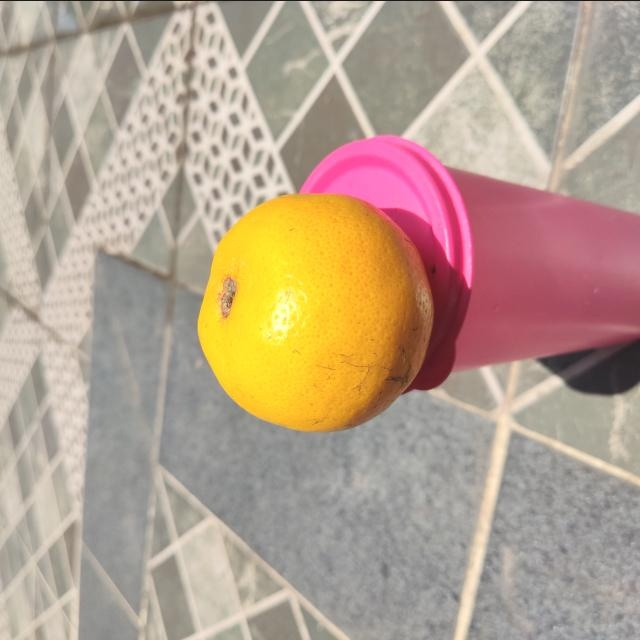agrume: (191, 192, 435, 437)
